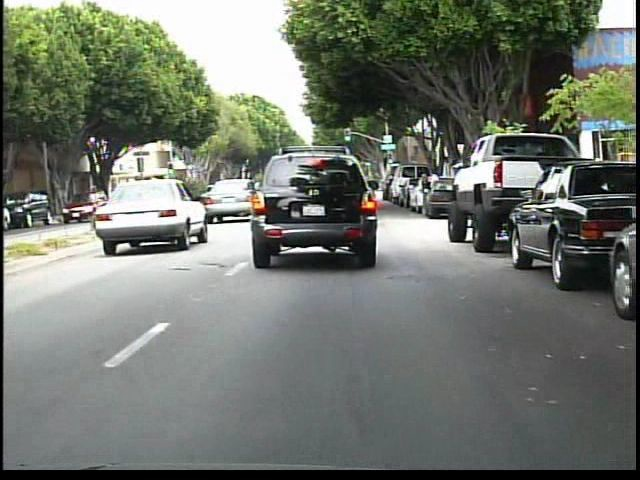person: (417, 172, 433, 220), (425, 166, 441, 210)
